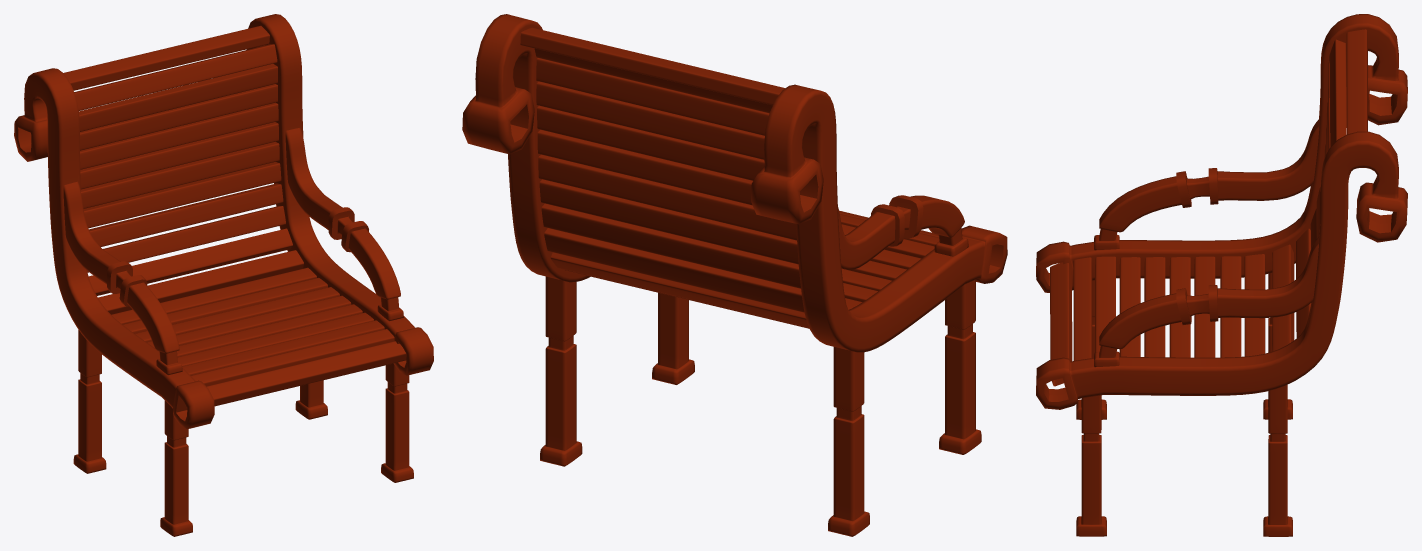
File: chairV3.obj
3 renders of one model, left to right at view 1: azimuth 30°, elevation 25°; view 2: azimuth 150°, elevation 25°; view 3: azimuth 270°, elevation 25°, orthographic. The views are drawn at different scales.
Visible parts, largest first — view 1: objChair; view 2: objChair; view 3: objChair.
Part boxes in pixels (left/top/right/bottom): objChair: left=14, top=14, right=433, bottom=536; objChair: left=462, top=14, right=1007, bottom=536; objChair: left=1036, top=14, right=1407, bottom=536.
Bounding box in the file's own units: 4.69 × 6.37 × 5.43.
